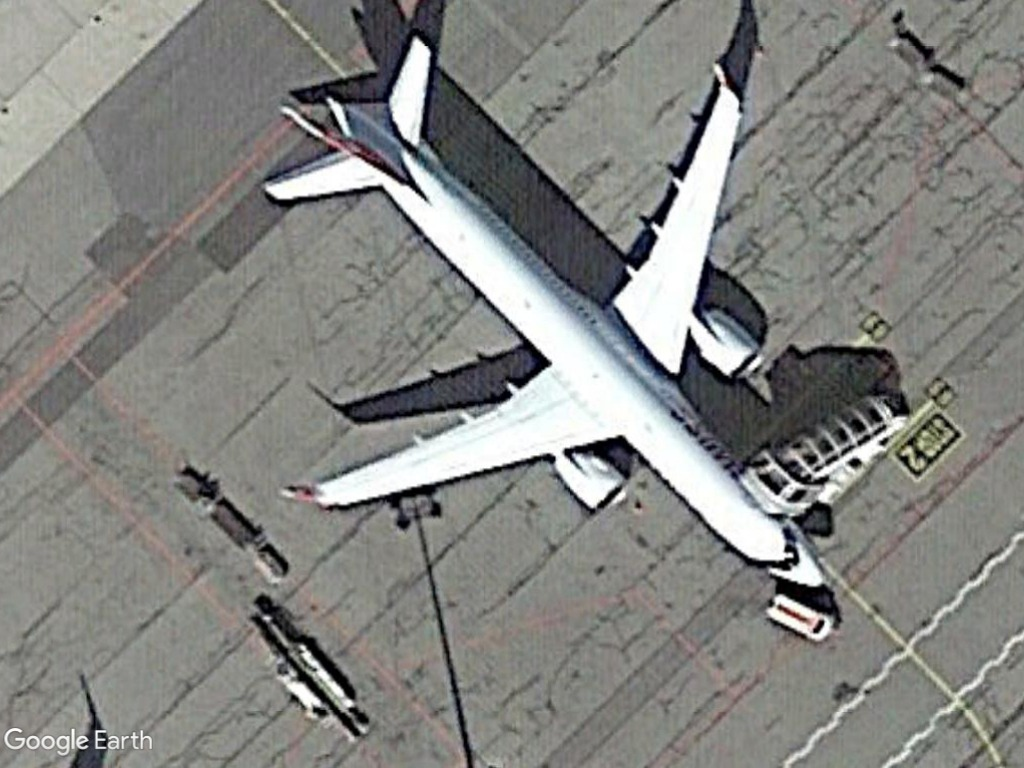airliner: (257, 27, 829, 590)
